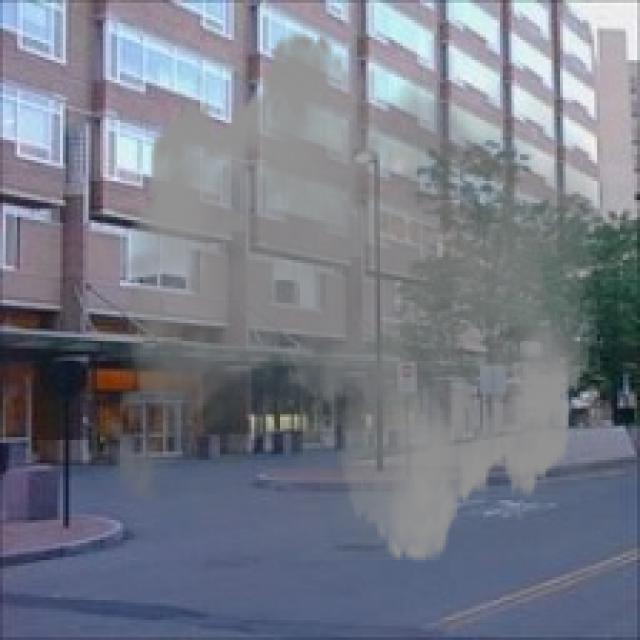smoke: (86, 14, 620, 580)
